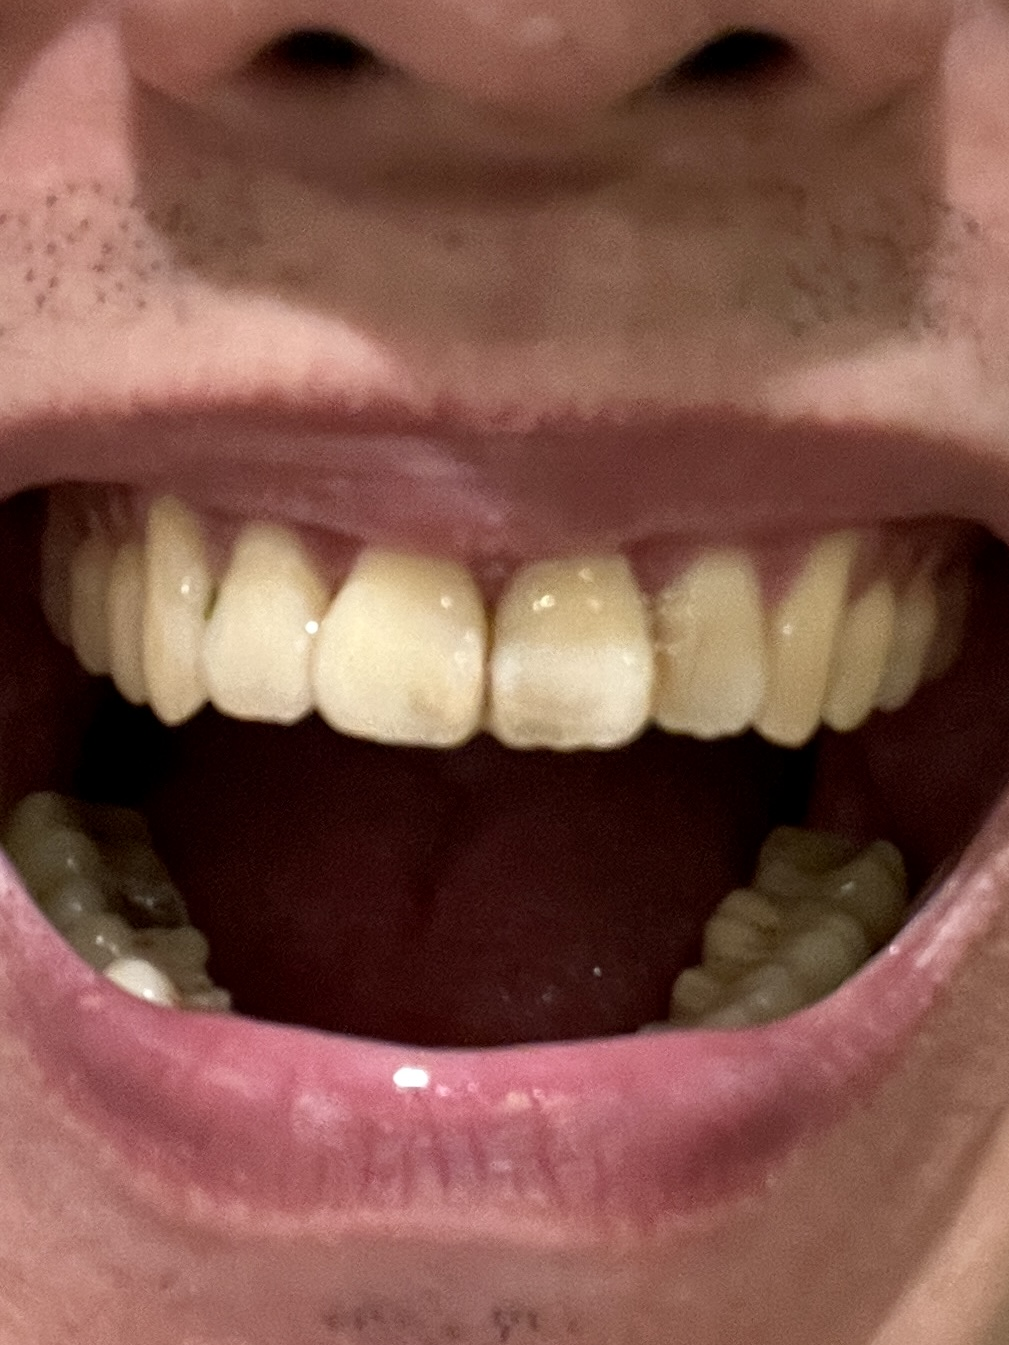teeth: (504, 580, 632, 741), (338, 564, 464, 723), (209, 541, 297, 701), (777, 551, 846, 720), (675, 570, 746, 730), (142, 526, 190, 720), (767, 827, 874, 900), (98, 883, 194, 963), (723, 900, 833, 957), (838, 599, 883, 715), (107, 571, 126, 670), (902, 618, 928, 673), (71, 570, 92, 637)
